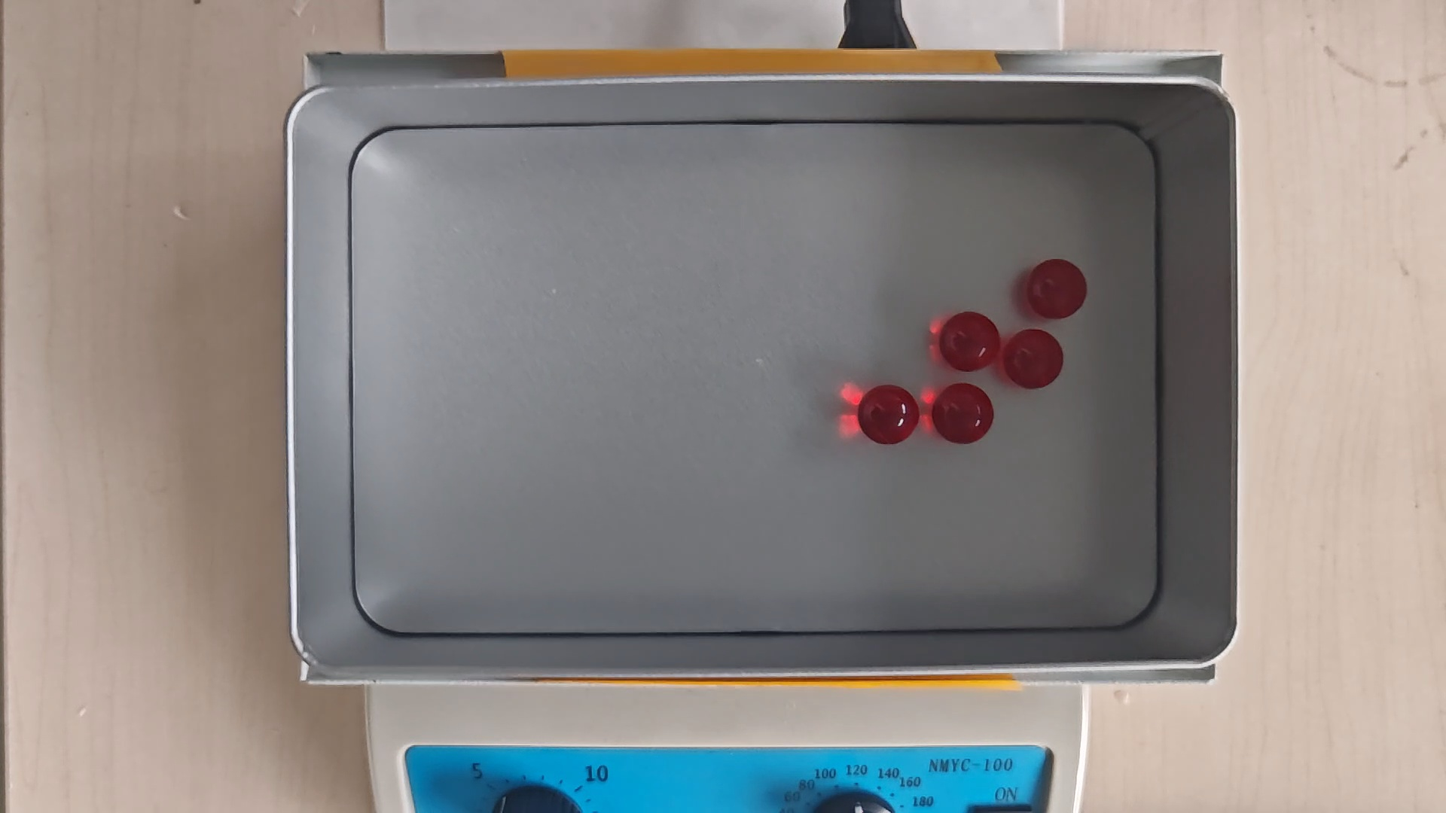ball: (934, 383, 995, 445), (1005, 330, 1066, 390), (1027, 258, 1087, 318), (942, 310, 999, 372), (860, 386, 917, 446)
container: (348, 117, 1164, 635)
